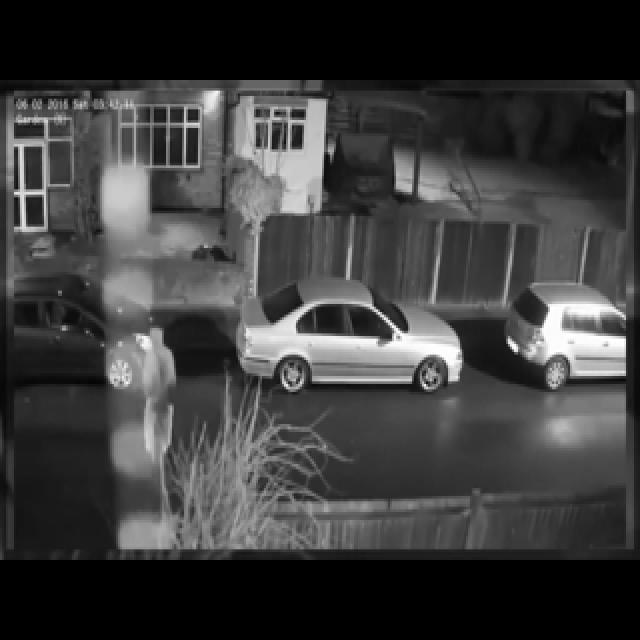vandalism: (42, 235, 279, 532)
